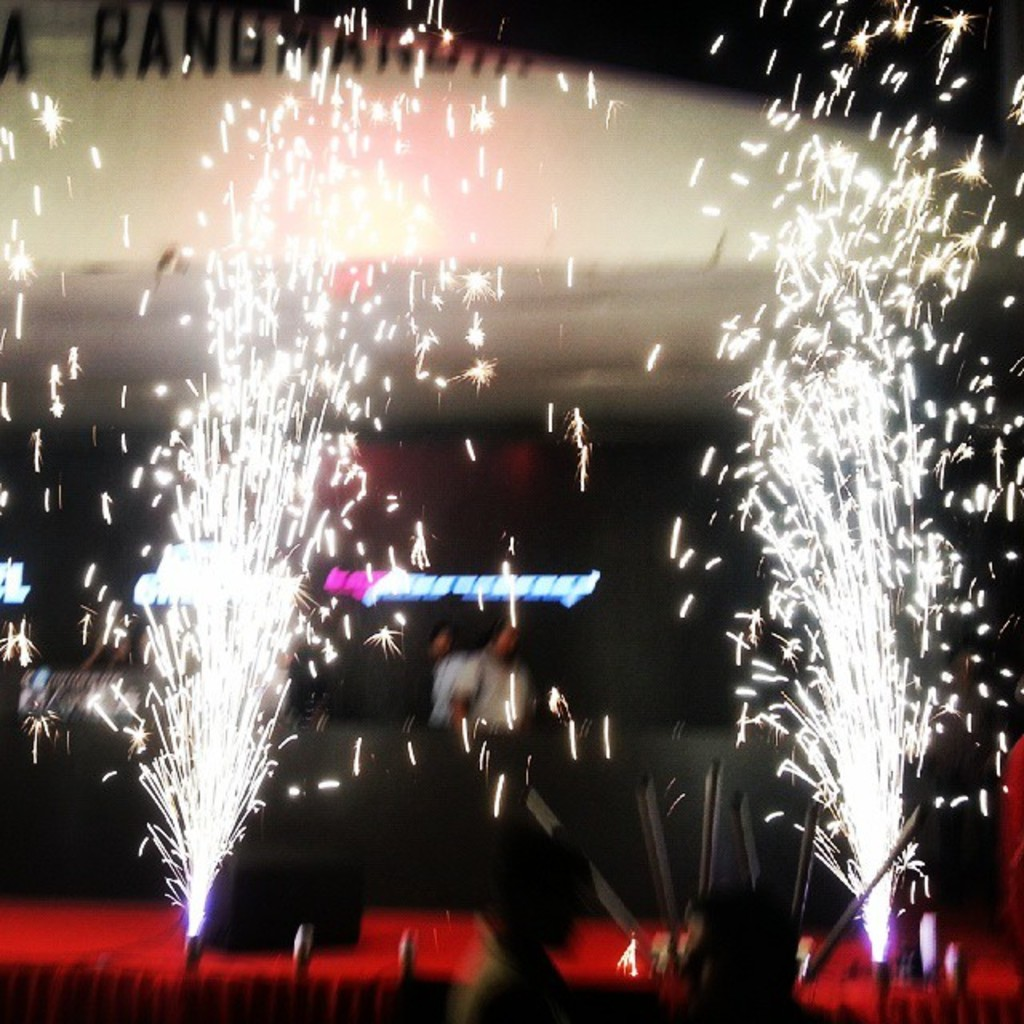person: (450, 618, 533, 735)
